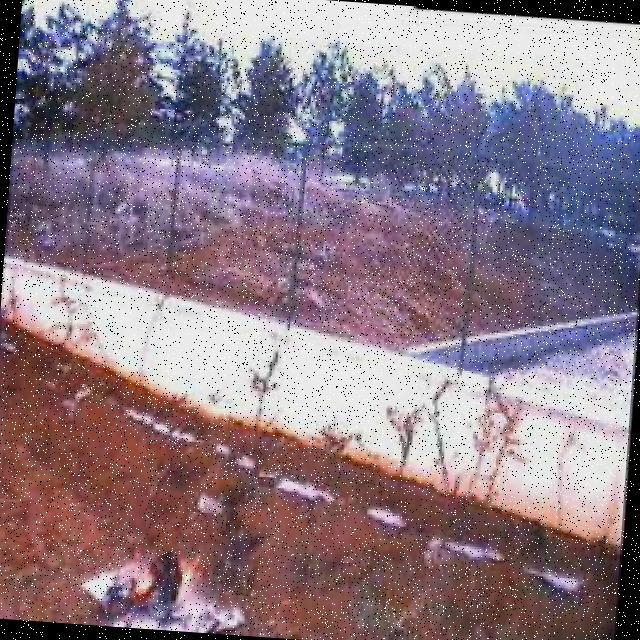Fire: (93, 543, 205, 628)
